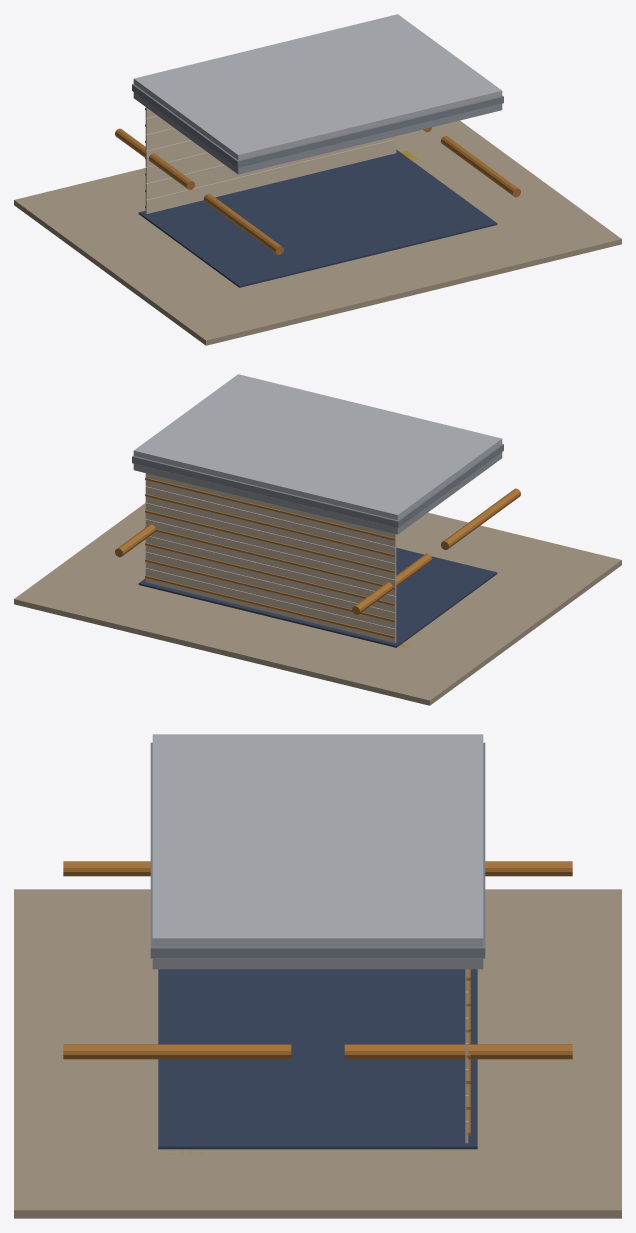
The model's file is stage_06_roof.glb.
The picture shows the model from 3 angles, top to bottom: view 1: azimuth 30°, elevation 25°; view 2: azimuth 150°, elevation 25°; view 3: azimuth 270°, elevation 25°; orthographic projection. The views are drawn at different scales.
Parts seen in each view (by area): view 1: world; view 2: world; view 3: world.
Boxes of the visible parts, x1=… form: world: x1=14, y1=14, x2=621, y2=345; world: x1=14, y1=374, x2=621, y2=705; world: x1=14, y1=734, x2=621, y2=1218.
Size of the model in its own units: 10 by 3.9 by 8.
